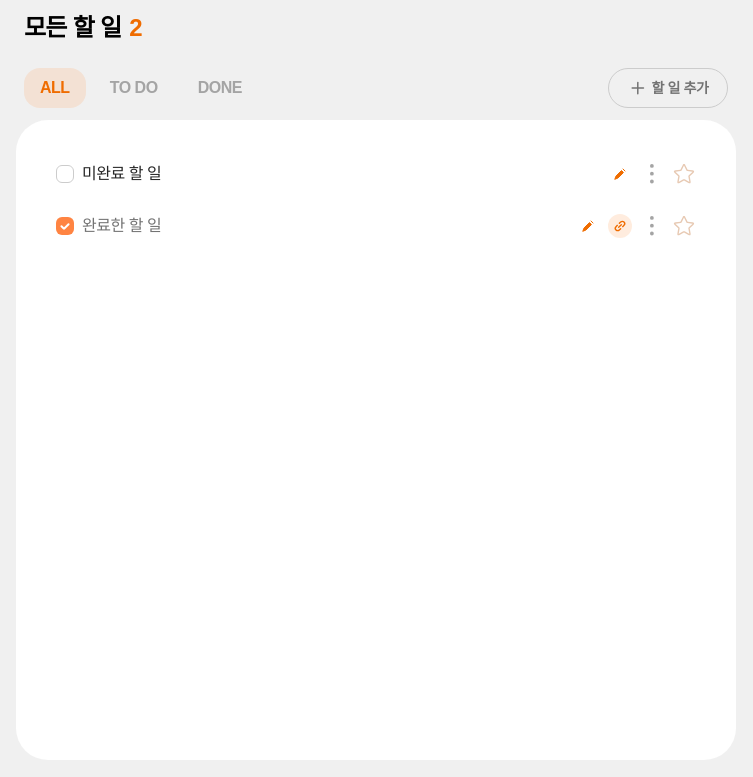
Test: TodosView › DONE 탭을 처음 열면 done=true로 첫 페이지부터 조회한다
Expected: the button "미완료 할 일" is shown, [82,162,600,186]
Click the tab "DONE": (220, 88) [182,68,258,108]
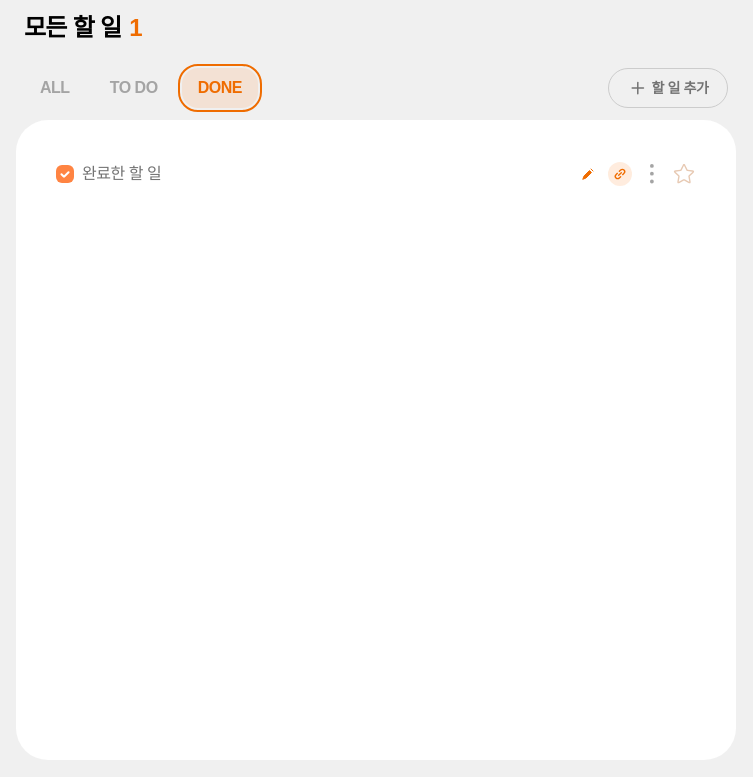
Expected: the button "완료한 할 일" is shown, [82,162,568,186]
Now the button "미완료 할 일" is gone
Now the heading "모든 할 일 1" is shown, box [24,14,142,41]
